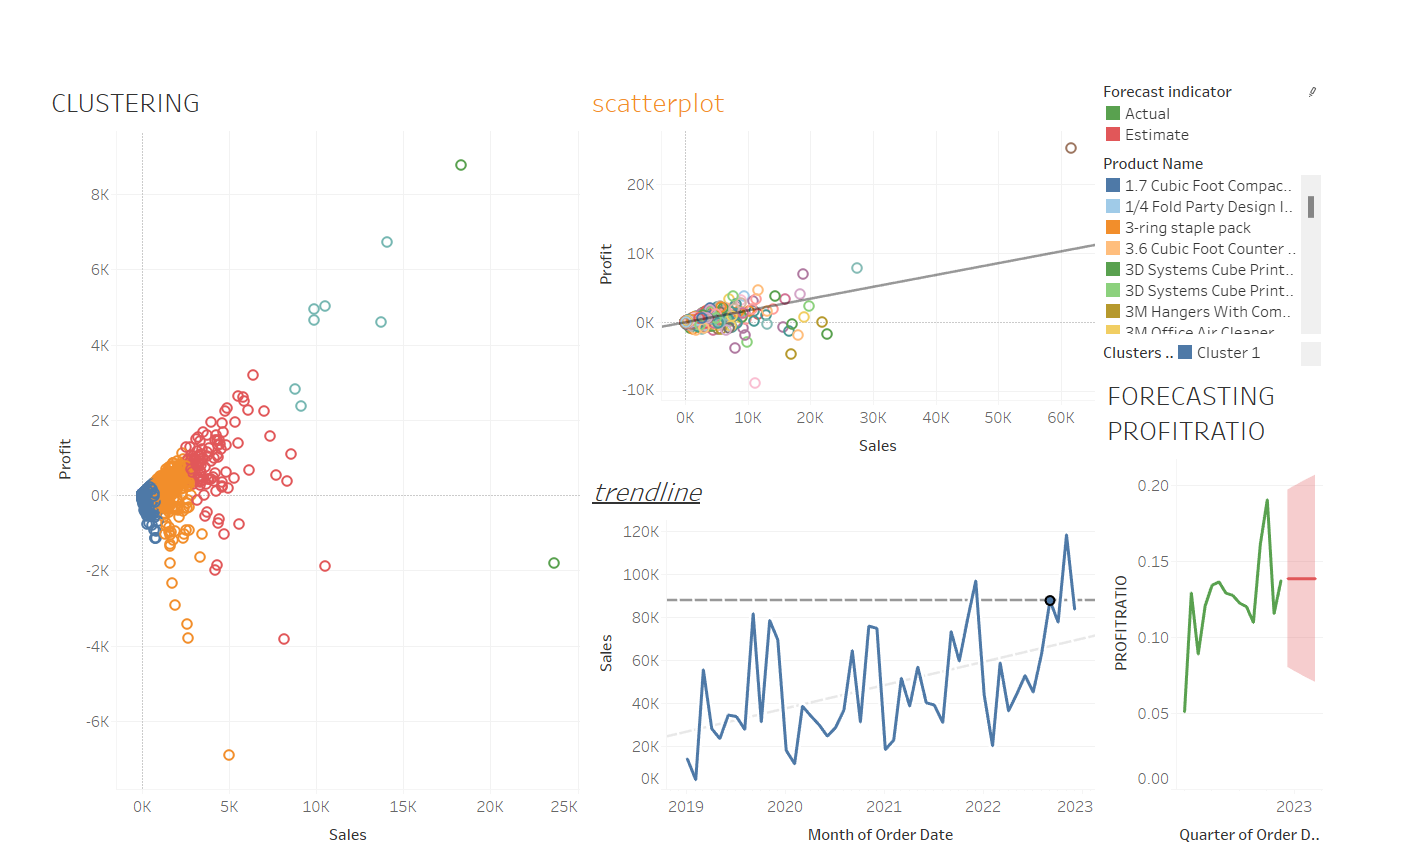

The dashboard page shown, as its layout file describes it:
{"tool":"tableau","page":{"name":"Dashboard 2","canvas":[1000,1000],"units":"permille","ordinal":1},"visuals":[{"type":"worksheet","title":"CLUSTERING","mark":"Automatic","rows":["Profit"],"cols":["Sales"],"box":[6.2,84.5,416.2,906.1]},{"type":"worksheet","title":"scatterplot","mark":"Automatic","rows":["Profit"],"cols":["Sales"],"box":[422.3,84.5,396.2,453.1]},{"type":"legend","title":"FORECASTING PROFITRATIO","param":"[federated.1heymw30l3teg1110r3oa0q35xao].[none:Forecast Indicator:nk]","box":[818.5,84.5,175.4,84.5]},{"type":"legend","title":"scatterplot","param":"[federated.1heymw30l3teg1110r3oa0q35xao].[none:Product Name:nk]","box":[818.5,169,175.4,221.8]},{"type":"legend","title":"CLUSTERING","param":"[federated.1heymw30l3teg1110r3oa0q35xao].[none:AdhocCluster:2:ok]","box":[818.5,390.9,175.4,37.6]},{"type":"worksheet","title":"FORECASTING PROFITRATIO","mark":"Automatic","rows":["Calculation_761108340468453376"],"cols":["Order Date"],"box":[818.5,428.4,175.4,562.2]},{"type":"worksheet","title":"trendline","mark":"Automatic","rows":["Sales"],"cols":["Order Date"],"box":[422.3,537.6,396.2,453.1]}]}

Visuals, with their boxes on the dashboard's canvas, which has no fixed pixel size, in thousandths of its width and height (x1, y1, x2, y2). These are canvas units, not pixel positions in the 1428x867 screenshot, which may show the page scaled, cropped or inside an application window:
"CLUSTERING" worksheet: 6,84,422,991
"scatterplot" worksheet: 422,84,818,538
"FORECASTING PROFITRATIO" legend: 818,84,994,169
"scatterplot" legend: 818,169,994,391
"CLUSTERING" legend: 818,391,994,428
"FORECASTING PROFITRATIO" worksheet: 818,428,994,991
"trendline" worksheet: 422,538,818,991
